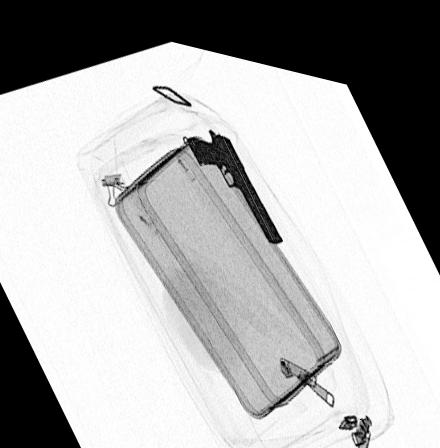Gun: (185, 118, 283, 231)
